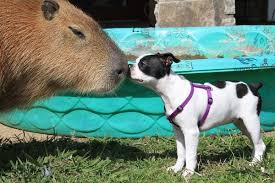capivara: (1, 1, 128, 114)
